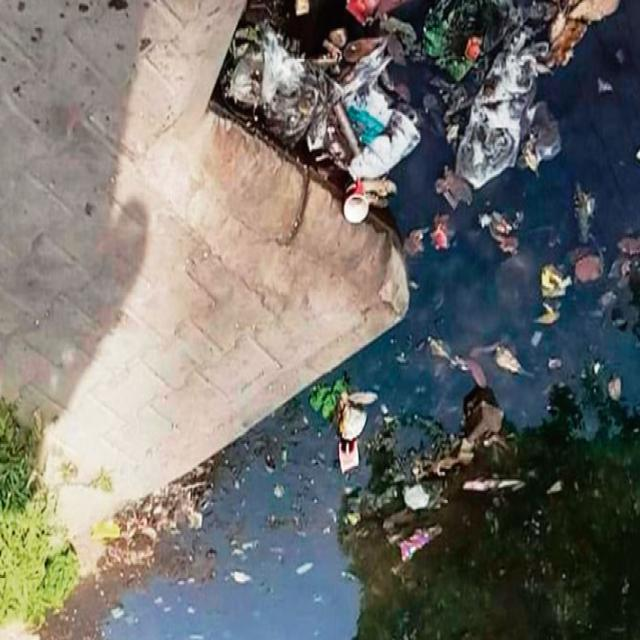Breeding Place: (34, 0, 640, 640)
